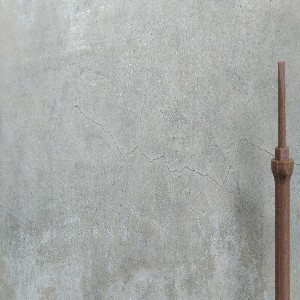obeng: (270, 60, 295, 300)
